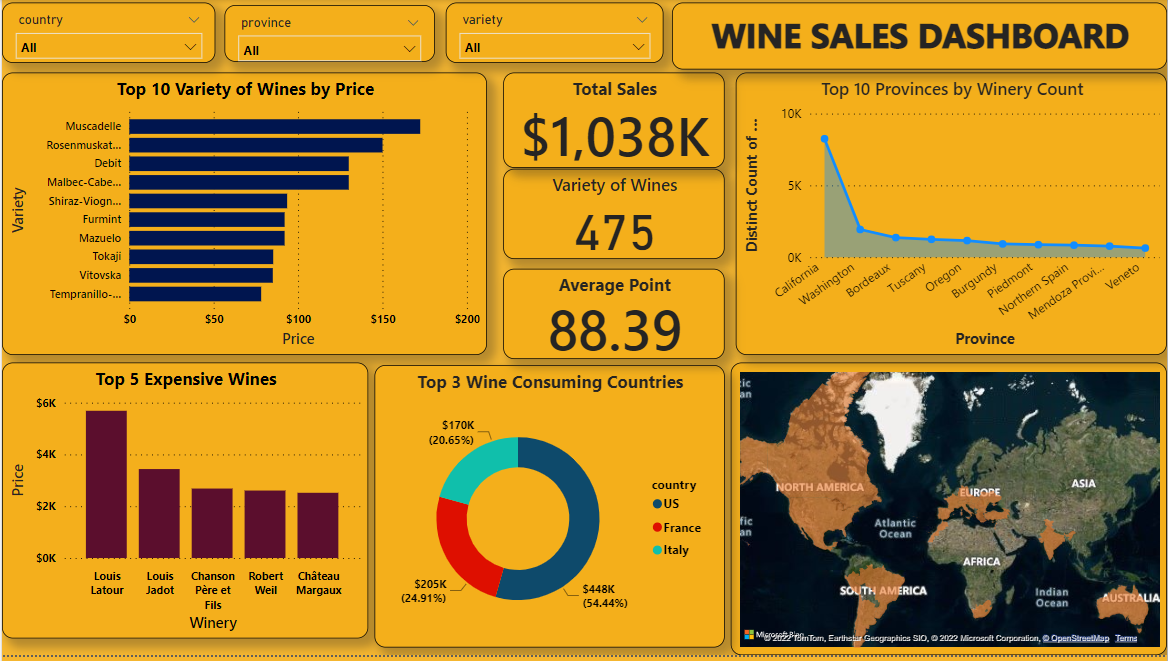

The page's visual inventory and layout, read from the dashboard file:
{"tool":"powerbi","page":{"name":"Wine","canvas":[1280,720],"ordinal":0},"visuals":[{"type":"filledMap","title":"Average Price by Country","fields":{"Category":["wine reviews.country"]},"box":[800.7,398.3,479.3,321.4],"z":0},{"type":"card","title":"Variety of Wines","fields":{"Values":["wine reviews.variety"]},"box":[550.7,185.4,243.1,98.9],"z":1000},{"type":"clusteredBarChart","title":"Top 10 Variety of Wines by Price ","fields":{"Category":["wine reviews.variety"],"Y":["wine reviews.Avg. Price"]},"box":[0,79.5,533,310.5],"z":2000},{"type":"slicer","fields":{"Values":["wine reviews.country"]},"box":[0,2.4,234.7,66],"z":3000},{"type":"slicer","fields":{"Values":["wine reviews.province"]},"box":[244.5,6.1,231,62.3],"z":4000},{"type":"slicer","fields":{"Values":["wine reviews.variety"]},"box":[487.7,2.4,239.6,66],"z":5000},{"type":"areaChart","title":"Top 10 Provinces by Winery Count","fields":{"Category":["wine reviews.province"],"Y":["wine reviews.winery"]},"box":[806.2,79.7,473.8,310.4],"z":6000},{"type":"card","title":"Total Sales","fields":{"Values":["wine reviews.price"]},"box":[550.1,79.5,243.3,105.1],"z":7000},{"type":"clusteredColumnChart","title":"Top 5 Expensive Wines","fields":{"Category":["wine reviews.winery"],"Y":["wine reviews.price"]},"box":[0,398.3,402.4,303.5],"z":8000},{"type":"donutChart","title":"Top 3 Wine Consuming Countries","fields":{"Category":["wine reviews.country"],"Y":["wine reviews.price"]},"box":[409.3,401,384.5,310.4],"z":9000},{"type":"card","title":"Average Point","fields":{"Values":["wine reviews.points"]},"box":[550.7,295.3,243.1,98.9],"z":10000},{"type":"textbox","box":[735.9,2.4,544,73.3],"z":11000}]}

Visuals, with their boxes in screenshot pixels (x1, y1, x2, y2), scaled from the page's 1280x720 canvas onto the 1168x661 screenshot:
"Average Price by Country" filledMap: (x1=731, y1=366, x2=1167, y2=660)
"Variety of Wines" card: (x1=503, y1=170, x2=724, y2=261)
"Top 10 Variety of Wines by Price " clusteredBarChart: (x1=0, y1=73, x2=486, y2=358)
slicer - wine reviews.country: (x1=0, y1=2, x2=214, y2=63)
slicer - wine reviews.province: (x1=223, y1=6, x2=434, y2=63)
slicer - wine reviews.variety: (x1=445, y1=2, x2=664, y2=63)
"Top 10 Provinces by Winery Count" areaChart: (x1=736, y1=73, x2=1167, y2=358)
"Total Sales" card: (x1=502, y1=73, x2=724, y2=169)
"Top 5 Expensive Wines" clusteredColumnChart: (x1=0, y1=366, x2=367, y2=644)
"Top 3 Wine Consuming Countries" donutChart: (x1=373, y1=368, x2=724, y2=653)
"Average Point" card: (x1=503, y1=271, x2=724, y2=362)
textbox: (x1=672, y1=2, x2=1167, y2=69)
